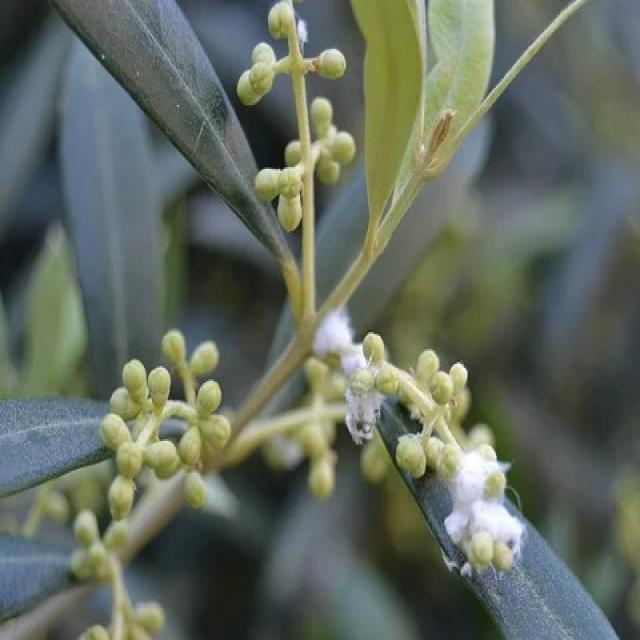Psyllid: (437, 441, 524, 572), (313, 308, 396, 439)
